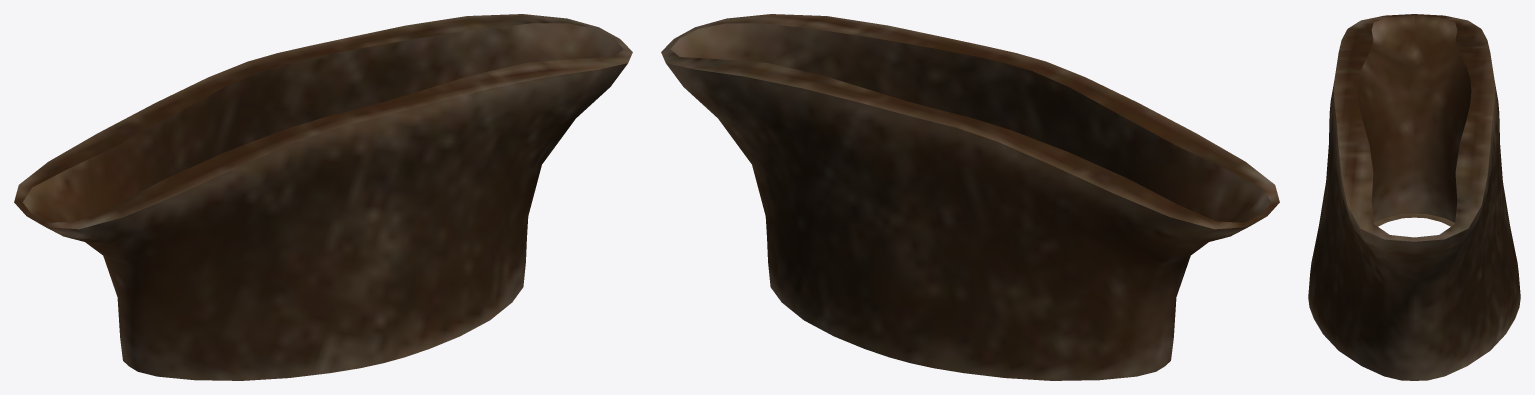
The model's file is wm_mordor_set1_sword_a01_guard.fbx.
3 renders of one model, left to right at view 1: azimuth 30°, elevation 25°; view 2: azimuth 150°, elevation 25°; view 3: azimuth 270°, elevation 25°, orthographic. The views are drawn at different scales.
Parts seen in each view (by area): view 1: wm_mordor_set1_sword_a01_guard; view 2: wm_mordor_set1_sword_a01_guard; view 3: wm_mordor_set1_sword_a01_guard.
Boxes of the visible parts, <box> form: wm_mordor_set1_sword_a01_guard: <box>14,14,632,380</box>; wm_mordor_set1_sword_a01_guard: <box>661,14,1279,380</box>; wm_mordor_set1_sword_a01_guard: <box>1308,14,1520,380</box>.
Size of the model in its own units: 0.0794 by 0.0278 by 0.0298.
Materials: 1 (1 with a texture image).
